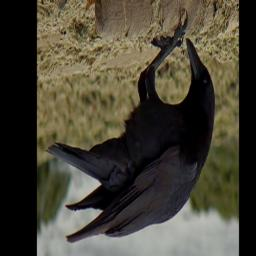Crow: (45, 8, 216, 244)
